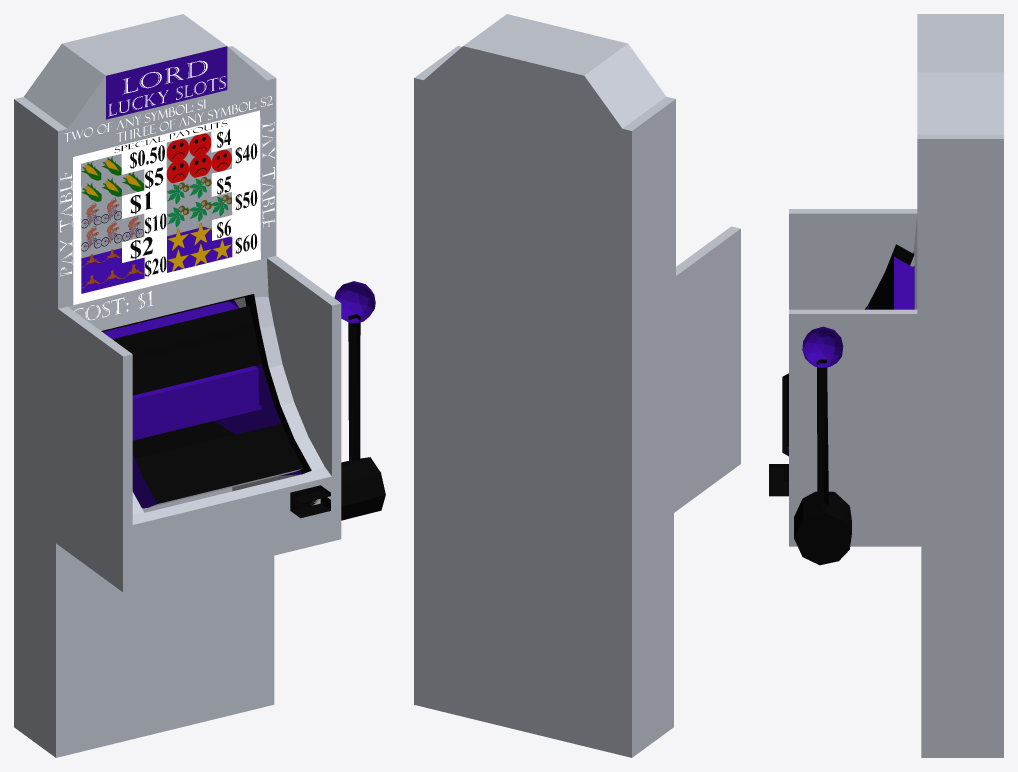
File: Slot Machine - Lord.glb
3 views of the same model, side by side, from view 1: azimuth 30°, elevation 25°; view 2: azimuth 150°, elevation 25°; view 3: azimuth 270°, elevation 25° (orthographic).
Visible parts, largest first — view 1: Slot Machine, Pull Handle, Pays, Text, Labels, Title; view 2: Slot Machine; view 3: Slot Machine, Pull Handle.
Boxes of the visible parts, left/top/right/bottom form: Slot Machine: left=14, top=14, right=341, bottom=757; Pull Handle: left=334, top=281, right=385, bottom=520; Pays: left=130, top=129, right=257, bottom=276; Text: left=64, top=96, right=272, bottom=152; Labels: left=60, top=122, right=274, bottom=320; Title: left=108, top=60, right=225, bottom=116; Slot Machine: left=414, top=14, right=740, bottom=757; Slot Machine: left=769, top=14, right=1003, bottom=757; Pull Handle: left=794, top=326, right=851, bottom=565.
Size of what is drawn, in the model's own units: 0.8369 by 2.02 by 0.6478.
13 materials, 6 textured.
